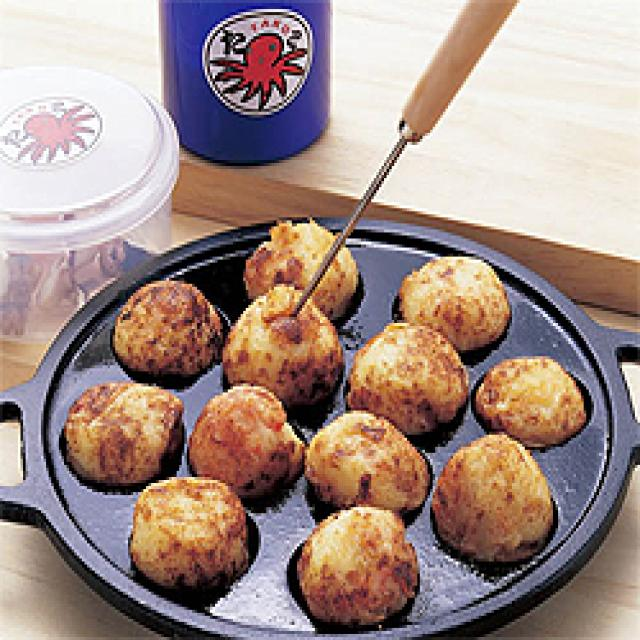炸货点心: (0, 193, 640, 640)
